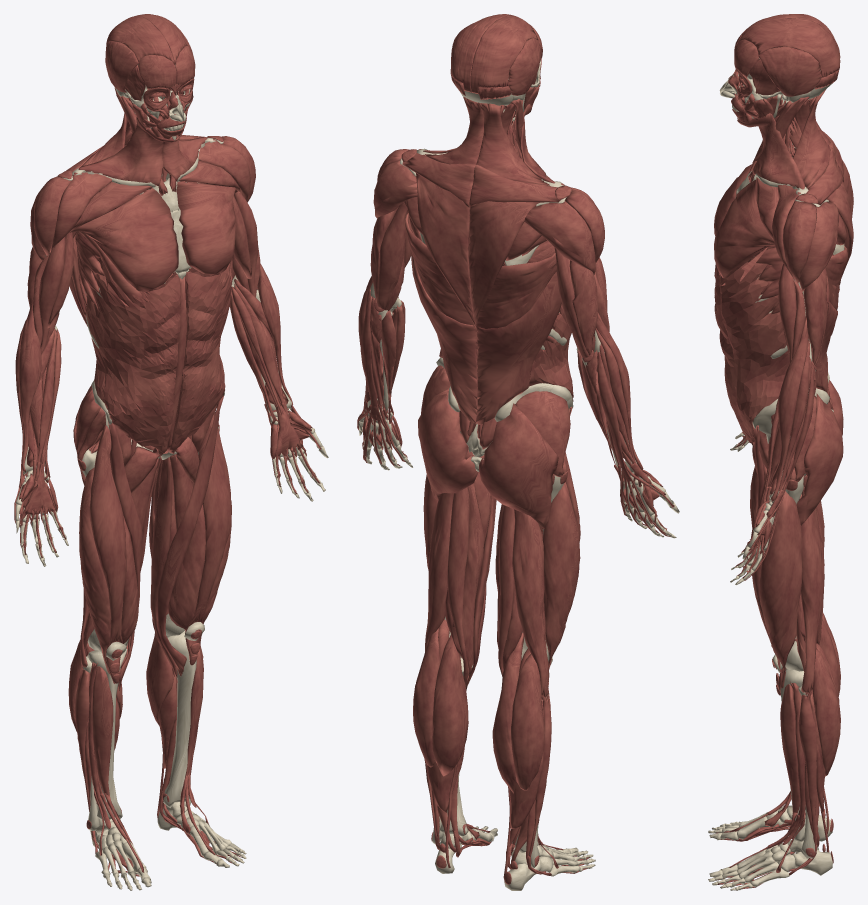
File: body.glb
3 renders of one model, left to right at view 1: azimuth 30°, elevation 25°; view 2: azimuth 150°, elevation 25°; view 3: azimuth 270°, elevation 25°, orthographic. The views are drawn at different scales.
Visible parts, largest first — view 1: External abdominal oblique muscle.012, External abdominal oblique muscle, Sternocostal head of pectoralis major muscle.007, Rectus femoris muscle.001, Sternocostal head of pectoralis major muscle.006, Rectus femoris muscle, Sartorius muscle, Vastus lateralis muscle.003, Platysma.001, Tibia.002, Vastus medialis muscle, Gracilis muscle.002 (+45 smaller); view 2: Latissimus dorsi muscle.005, Gluteus maximus muscle.005, Latissimus dorsi muscle.002, Descending part of trapezius muscle, Vastus lateralis muscle.003, Long head of biceps femoris.003, Descending part of trapezius muscle.003, Gluteus maximus muscle.002, Medial head of gastrocnemius, Lateral head of gastrocnemius.003, Epicranial aponeurosis.001, Scapular spinal part of deltoid muscle.003 (+34 smaller); view 3: External abdominal oblique muscle, Vastus lateralis muscle, Sternocostal head of pectoralis major muscle.006, Gluteus maximus muscle.002, Long head of biceps femoris, Epicranial aponeurosis, Temporoparietalis muscle, Lateral head of gastrocnemius, Platysma, Brachioradialis muscle.002, Acromial part of deltoid muscle, Scapular spinal part of deltoid muscle (+36 smaller).
Boxes of the visible parts, x1,y1,x2,y2 form: External abdominal oblique muscle.012: [86, 258, 180, 446]; External abdominal oblique muscle: [174, 258, 232, 444]; Sternocostal head of pectoralis major muscle.007: [69, 188, 178, 291]; Rectus femoris muscle.001: [89, 425, 126, 683]; Sternocostal head of pectoralis major muscle.006: [177, 182, 237, 274]; Rectus femoris muscle: [185, 414, 231, 659]; Sartorius muscle: [156, 395, 223, 676]; Vastus lateralis muscle.003: [79, 468, 110, 673]; Platysma.001: [78, 117, 174, 185]; Tibia.002: [163, 630, 196, 807]; Vastus medialis muscle: [168, 505, 205, 651]; Gracilis muscle.002: [150, 457, 177, 677]; Latissimus dorsi muscle.005: [475, 252, 561, 424]; Gluteus maximus muscle.005: [479, 403, 558, 528]; Latissimus dorsi muscle.002: [405, 213, 477, 423]; Descending part of trapezius muscle: [415, 173, 476, 326]; Vastus lateralis muscle.003: [542, 482, 580, 665]; Long head of biceps femoris.003: [512, 509, 549, 697]; Descending part of trapezius muscle.003: [469, 201, 539, 327]; Gluteus maximus muscle.002: [418, 389, 478, 501]; Medial head of gastrocnemius: [432, 635, 468, 776]; Lateral head of gastrocnemius.003: [511, 654, 544, 790]; Epicranial aponeurosis.001: [470, 15, 538, 94]; Scapular spinal part of deltoid muscle.003: [524, 201, 595, 274]; External abdominal oblique muscle: [714, 262, 789, 442]; Vastus lateralis muscle: [759, 491, 802, 688]; Sternocostal head of pectoralis major muscle.006: [714, 179, 775, 278]; Gluteus maximus muscle.002: [796, 393, 843, 525]; Long head of biceps femoris: [800, 508, 824, 694]; Epicranial aponeurosis: [738, 18, 840, 77]; Temporoparietalis muscle: [758, 46, 820, 96]; Lateral head of gastrocnemius: [812, 648, 840, 776]; Platysma: [737, 113, 804, 189]; Brachioradialis muscle.002: [771, 316, 808, 501]; Acromial part of deltoid muscle: [782, 201, 816, 283]; Scapular spinal part of deltoid muscle: [799, 201, 838, 291].
Size of the model in its own units: 0.6687 by 1.7 by 0.267.
Materials: 2 (2 with a texture image).
